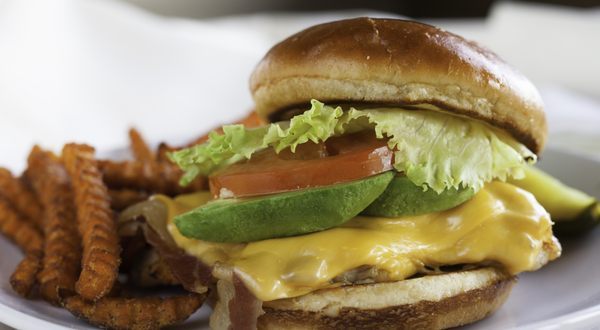soup: (150, 15, 576, 330)
